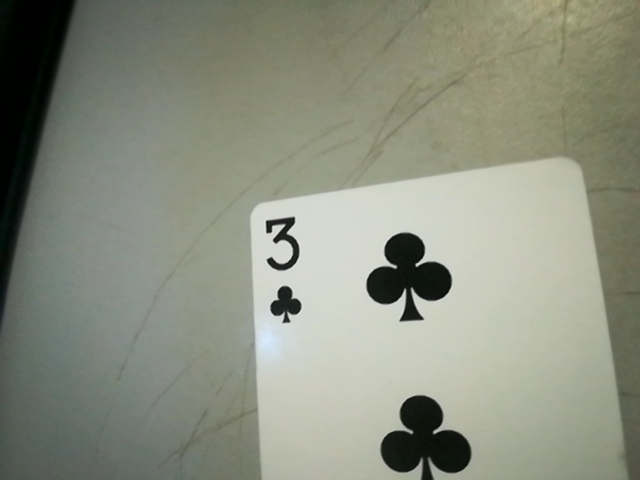mh 3: (251, 208, 311, 334)
